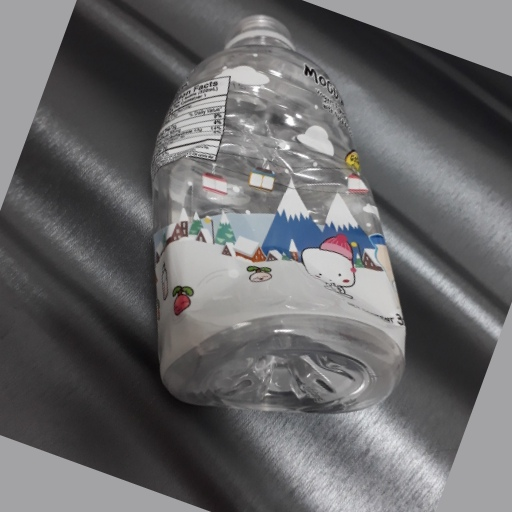Plastic_0: (150, 14, 408, 415)
